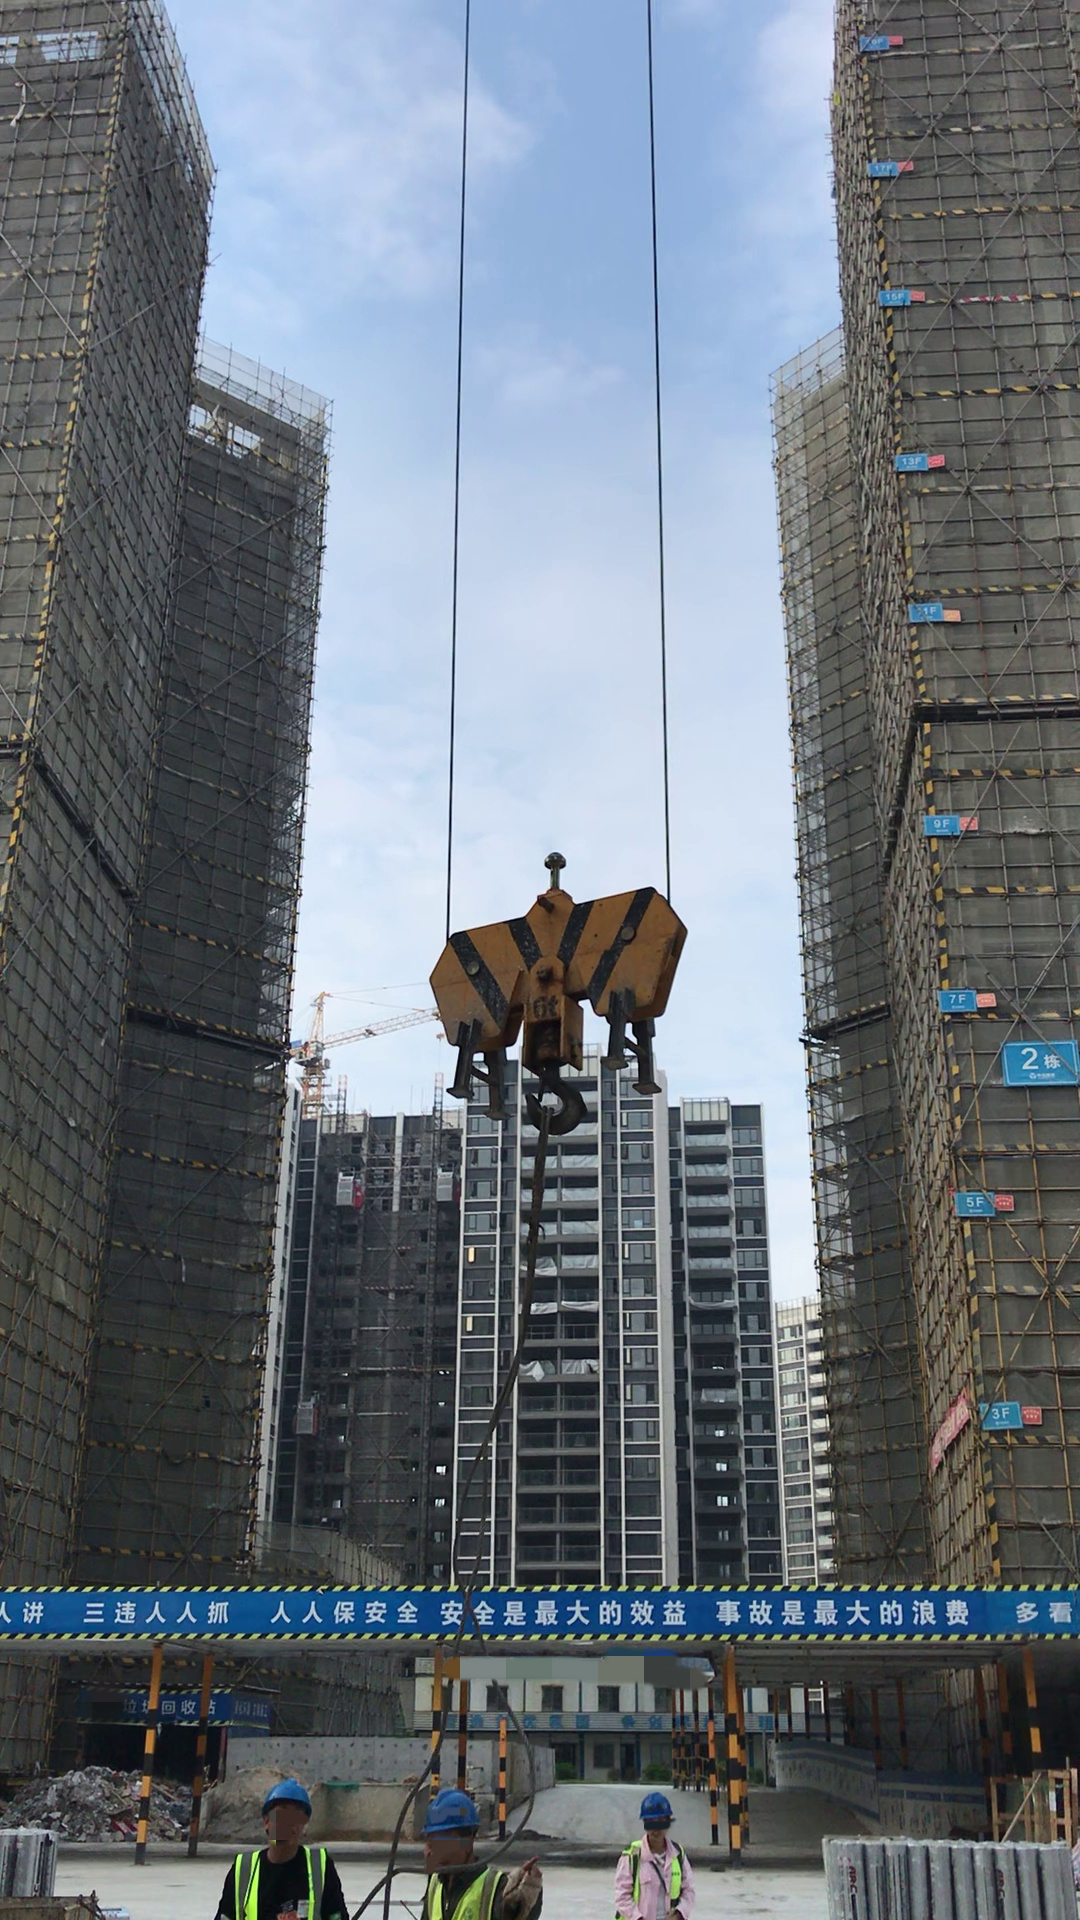helmet: (416, 1773, 500, 1843), (256, 1770, 321, 1822), (645, 1793, 677, 1831)
hook: (409, 843, 692, 1109)
person: (396, 1762, 538, 1920), (211, 1773, 351, 1920), (603, 1775, 701, 1920)
slogan: (17, 1587, 1078, 1638)
vest: (225, 1843, 336, 1920), (416, 1859, 510, 1920)
